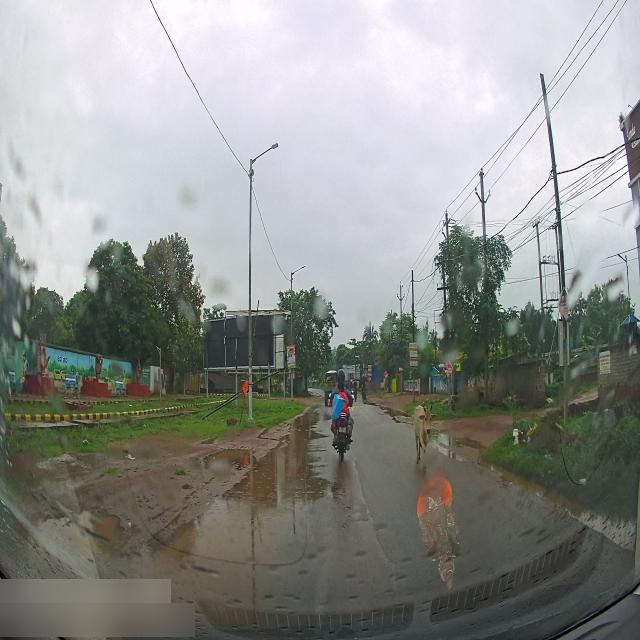pothole: (99, 471, 309, 610), (255, 425, 326, 493), (206, 444, 258, 480), (432, 425, 486, 459), (292, 406, 321, 434), (380, 404, 404, 422)
